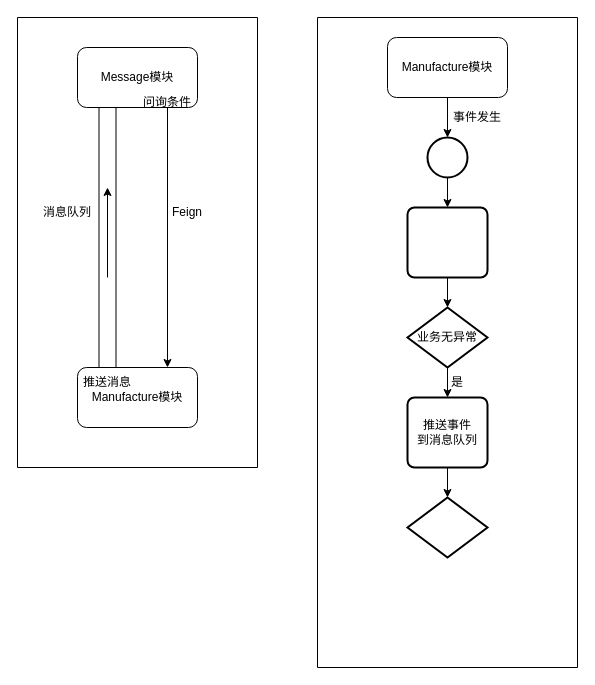
Image size: 595x685. Some labels were removed from this diagram. The centre of each missing label's shape, as x and y in pixels:
开始: the point at 447,157
执行MOM 现有业务逻辑: the point at 447,242
推送成功: the point at 447,527
